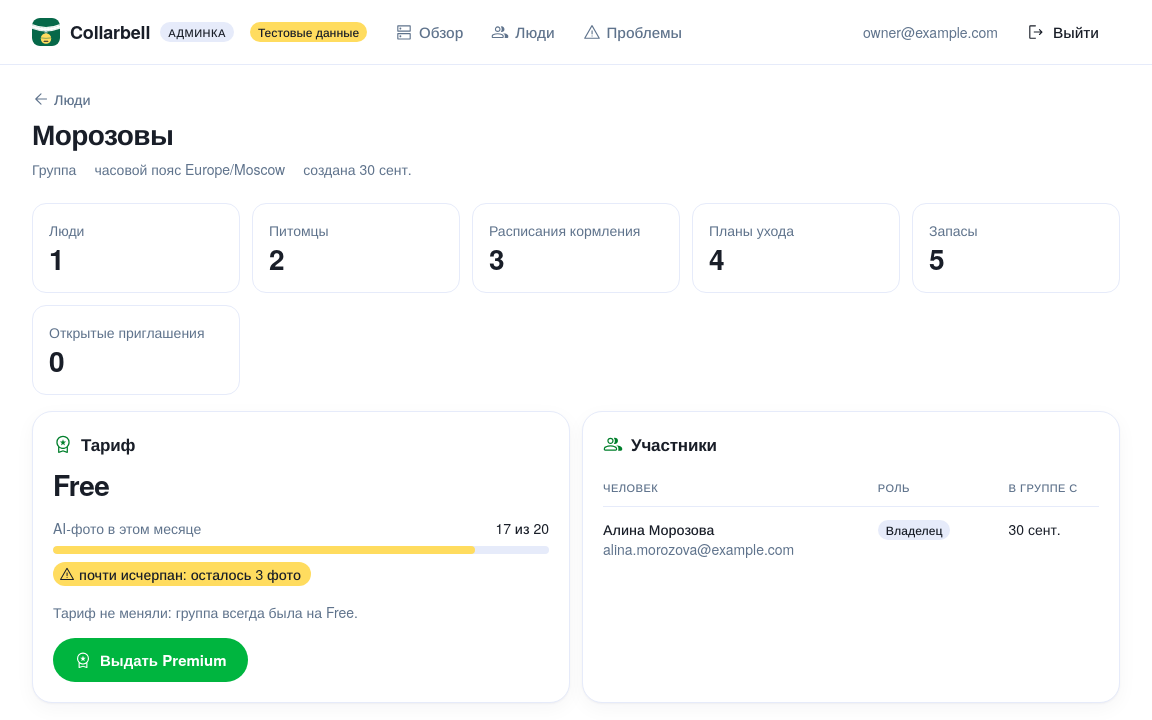
it: Тариф › gives Premium with no end
Click the button "Выдать Premium".
click(150, 660)  # box x1=53 y1=638 x2=248 y2=682
(page scrolled)
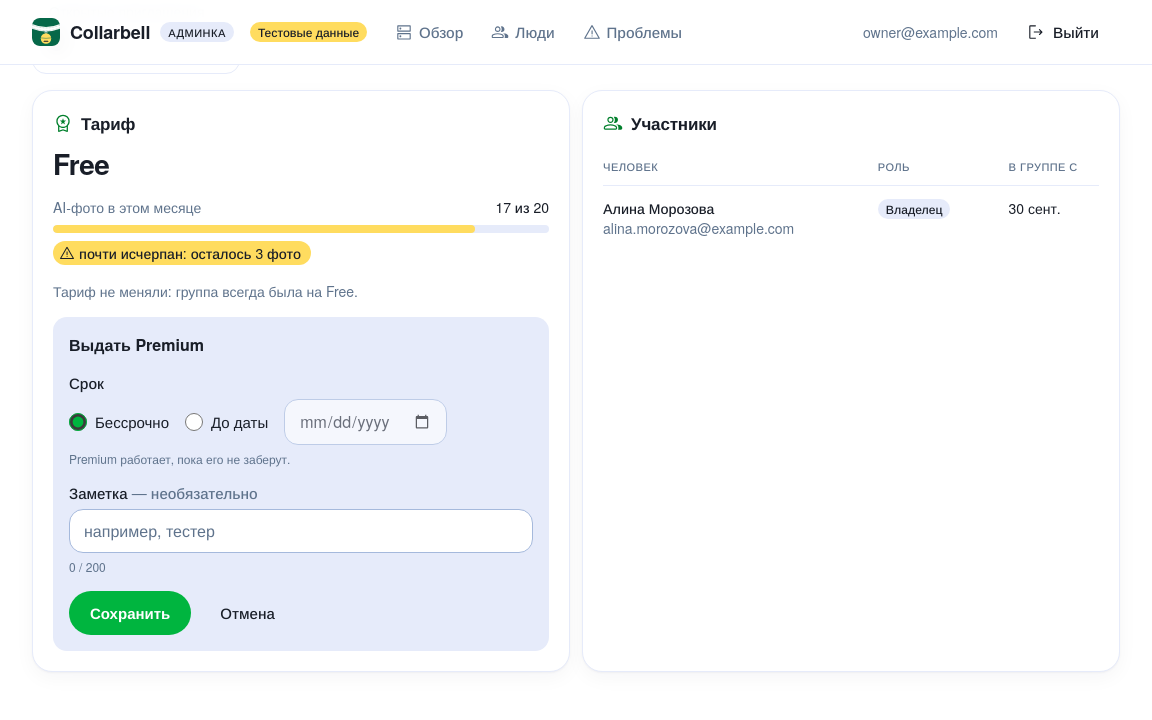
Type "тестер" into the field labelled "Заметка — необязательно".
click(301, 531); type("тестер")  # box x1=69 y1=509 x2=533 y2=553
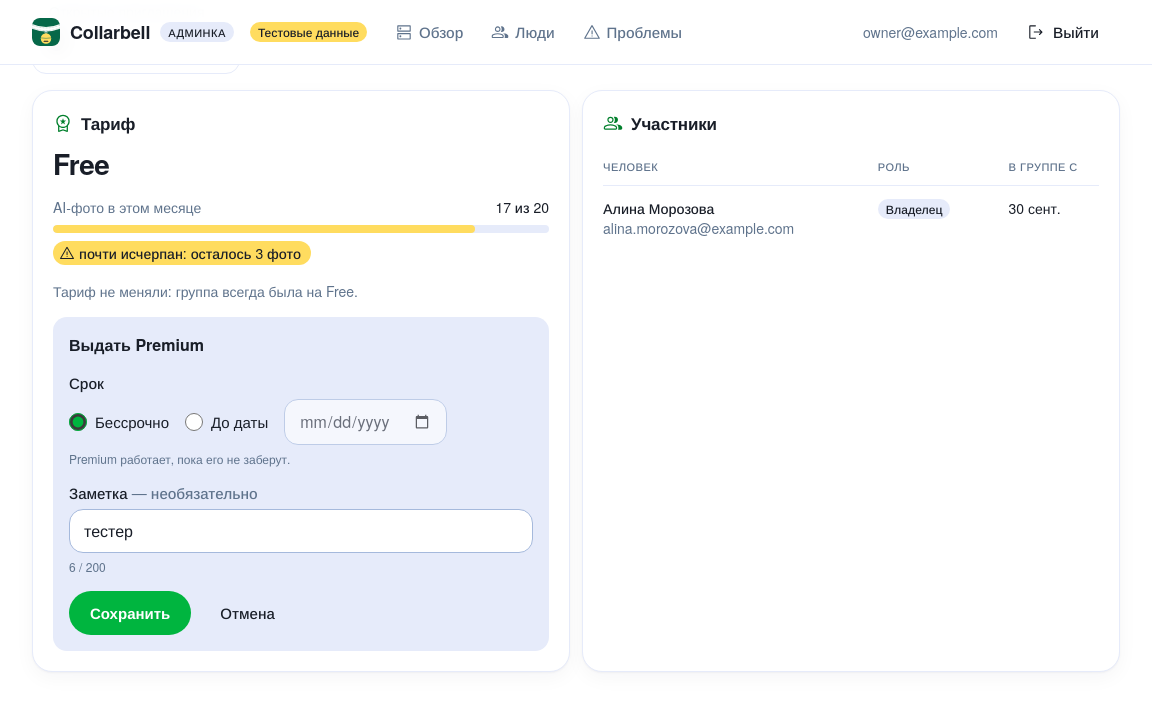
Click the button "Сохранить".
click(130, 613)  # box x1=69 y1=591 x2=191 y2=635
(page scrolled)
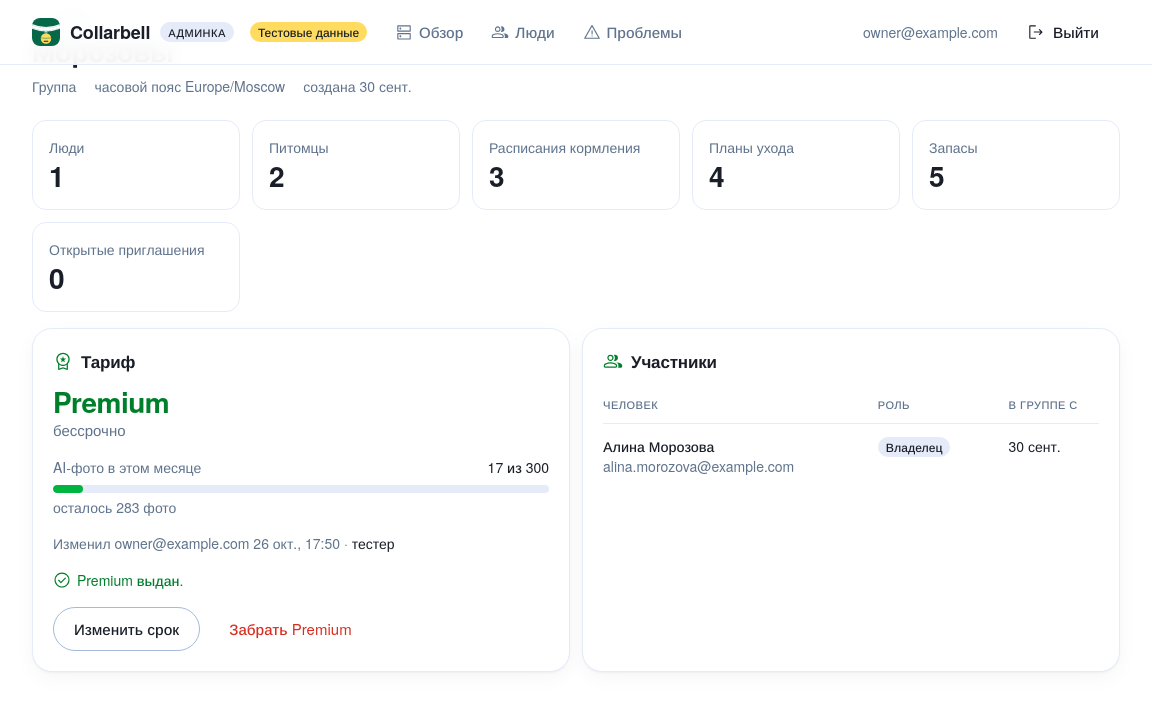
Expected: the text "бессрочно" is shown, x1=53 y1=419 x2=126 y2=440
Expected: the text "Premium выдан." is shown, x1=53 y1=570 x2=183 y2=590
Expected: the text "Premium" is shown, x1=53 y1=381 x2=169 y2=422
